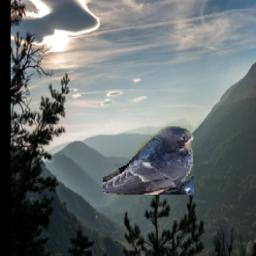Swallow: (103, 125, 194, 195)
